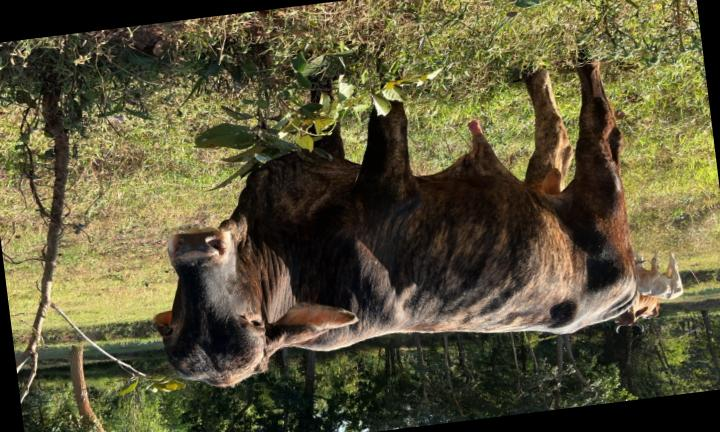Charolais: (154, 61, 637, 386)
